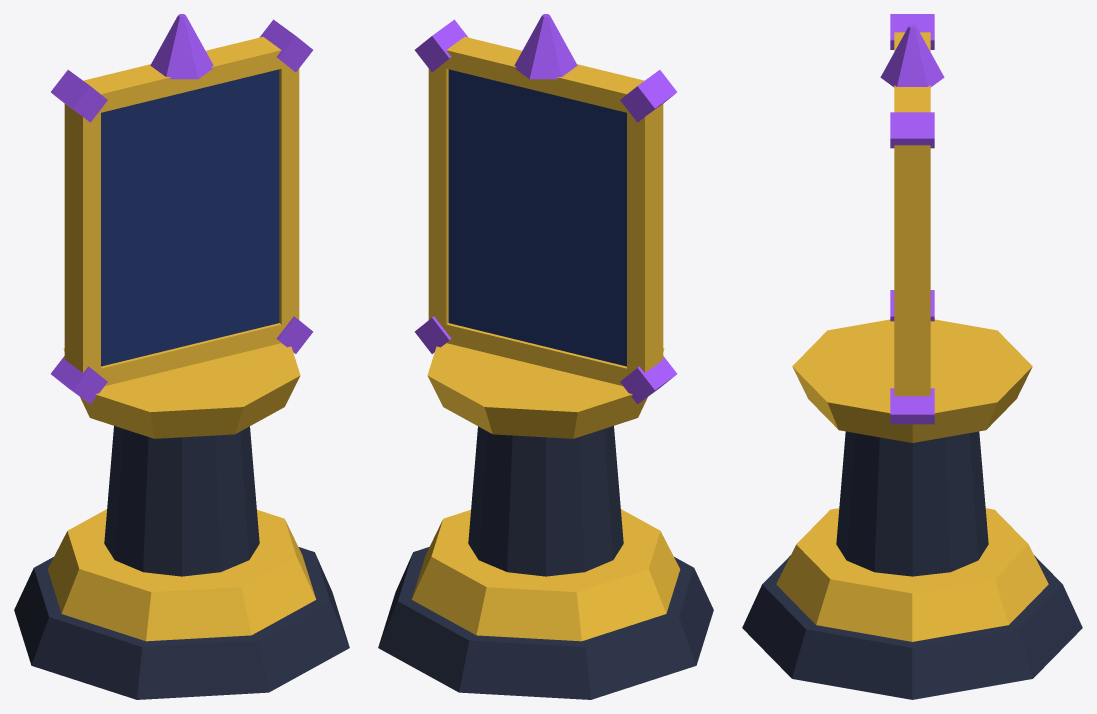
Rendered from card_pedestal.obj.
3 views of the same model, side by side, from view 1: azimuth 30°, elevation 25°; view 2: azimuth 150°, elevation 25°; view 3: azimuth 270°, elevation 25° (orthographic). The views are drawn at different scales.
Parts seen in each view (by area): view 1: CardPedestal; view 2: CardPedestal; view 3: CardPedestal.
Boxes of the visible parts, <box> form: CardPedestal: <box>14,14,349,699</box>; CardPedestal: <box>378,14,713,699</box>; CardPedestal: <box>742,14,1082,699</box>.
Size of the model in its own units: 6.07 by 11.82 by 6.07.
